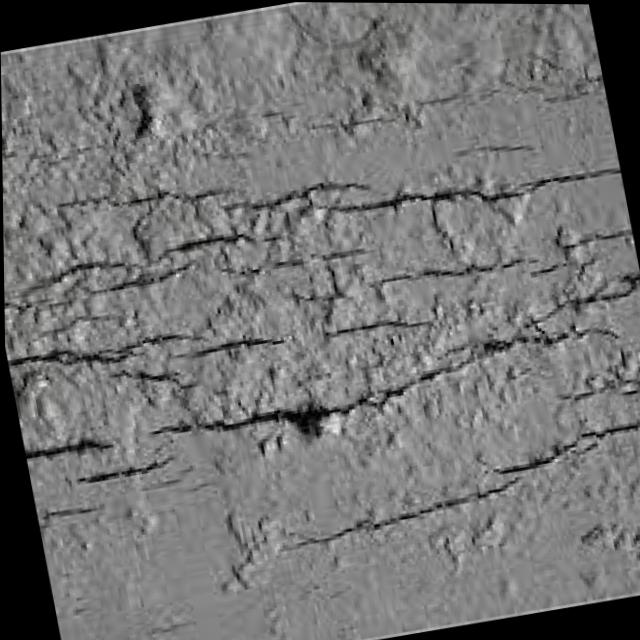Crack: (0, 0, 628, 547)
